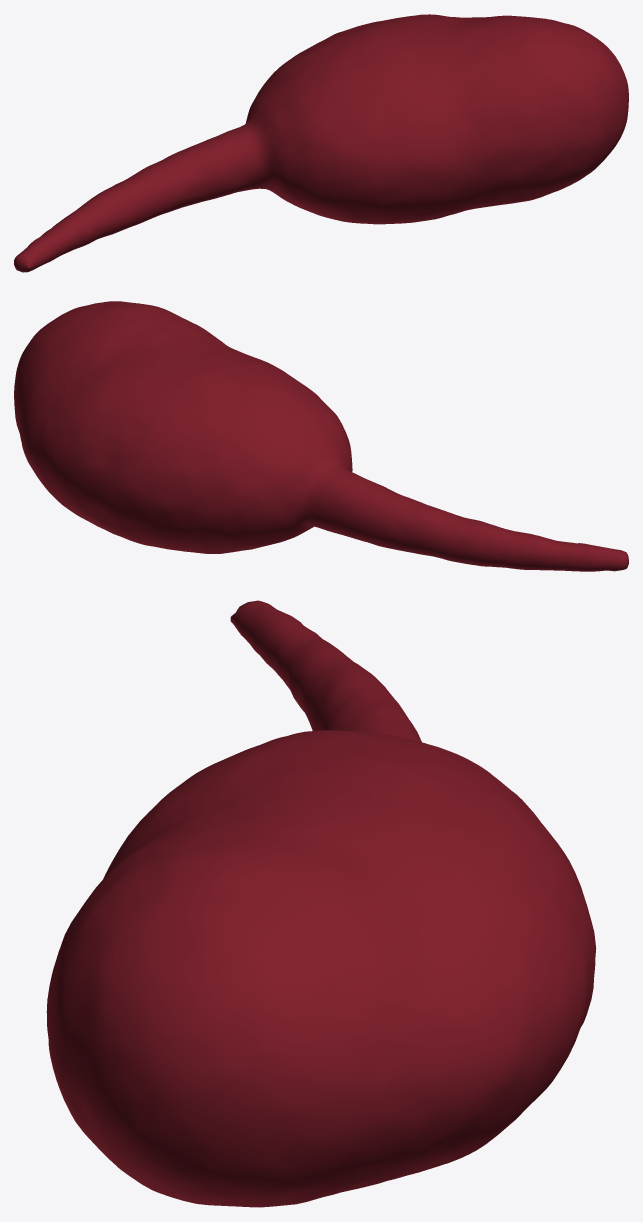
File: clot.glb
3 views of the same model, one above another, from view 1: azimuth 30°, elevation 25°; view 2: azimuth 150°, elevation 25°; view 3: azimuth 270°, elevation 25° (orthographic). The views are drawn at different scales.
Parts seen in each view (by area): view 1: Clot; view 2: Clot; view 3: Clot.
Boxes of the visible parts, box(x1,y1,x2,y2) form: Clot: box(14, 14, 628, 272); Clot: box(14, 301, 628, 571); Clot: box(46, 600, 596, 1207).
Size of the model in its own units: 0.0435 by 0.0124 by 0.0174.
